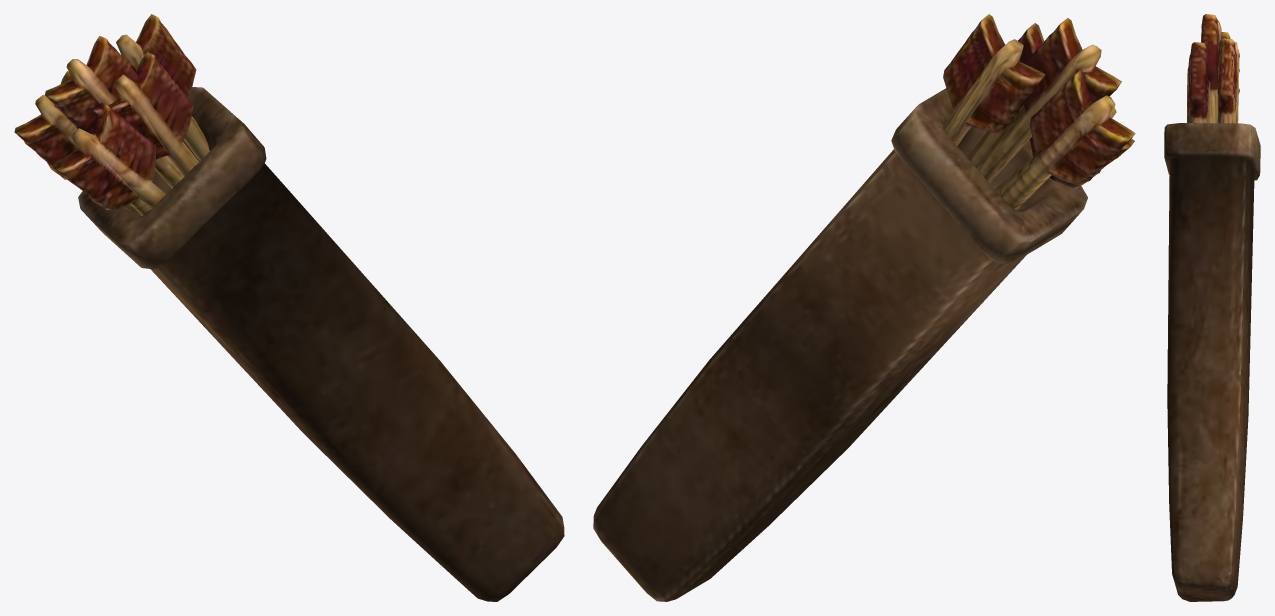
The model's file is Quiver_Arrows.glb.
3 renders of one model, left to right at view 1: azimuth 30°, elevation 25°; view 2: azimuth 150°, elevation 25°; view 3: azimuth 270°, elevation 25°, orthographic. The views are drawn at different scales.
Parts seen in each view (by area): view 1: Elf Female Crossbow Ranger.003; view 2: Elf Female Crossbow Ranger.003; view 3: Elf Female Crossbow Ranger.003.
Boxes of the visible parts, box(x1,y1,x2,y2) form: Elf Female Crossbow Ranger.003: box(14, 14, 564, 601); Elf Female Crossbow Ranger.003: box(593, 14, 1135, 601); Elf Female Crossbow Ranger.003: box(1164, 14, 1260, 601).
Bounding box in the file's own units: 1.35 × 1.6 × 0.3061.
Materials: 1 (1 with a texture image).
